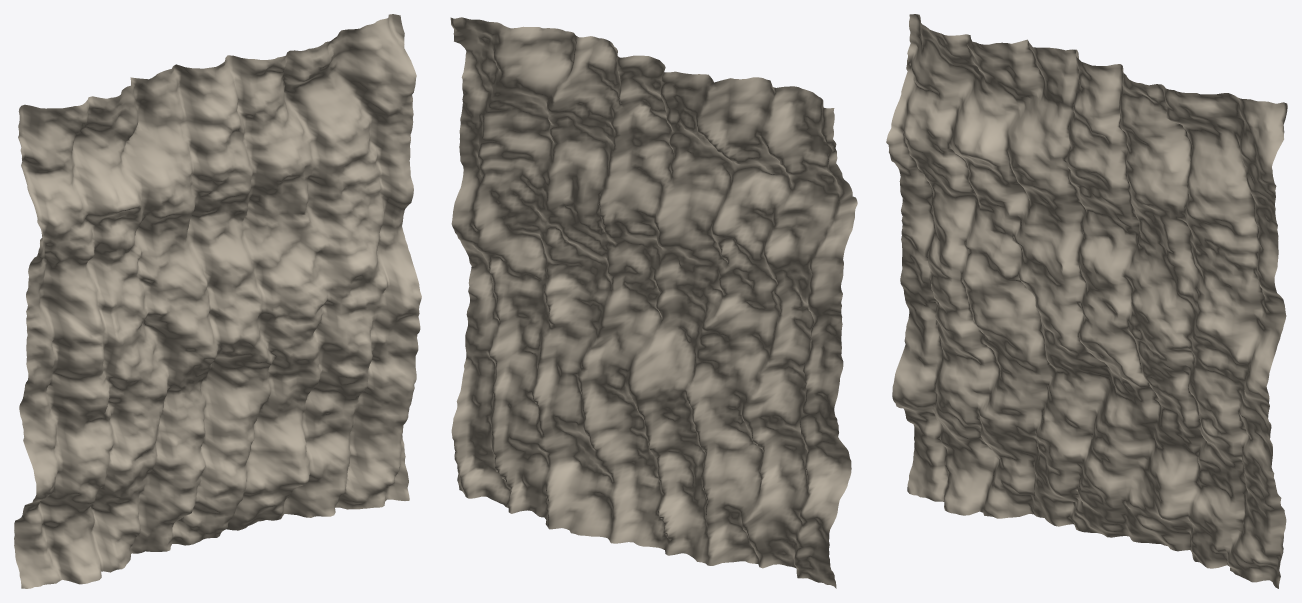
The model's file is parede-negativa.glb.
3 renders of one model, left to right at view 1: azimuth 30°, elevation 25°; view 2: azimuth 150°, elevation 25°; view 3: azimuth 330°, elevation 25°, orthographic.
Parts seen in each view (by area): view 1: Parede negativa (demonstrativa); view 2: Parede negativa (demonstrativa); view 3: Parede negativa (demonstrativa).
Boxes of the visible parts, x1,y1,x2,y2 form: Parede negativa (demonstrativa): (14, 14, 421, 588); Parede negativa (demonstrativa): (450, 17, 857, 588); Parede negativa (demonstrativa): (886, 14, 1287, 588).
Size of the model in its own units: 20 by 24 by 2.93.
